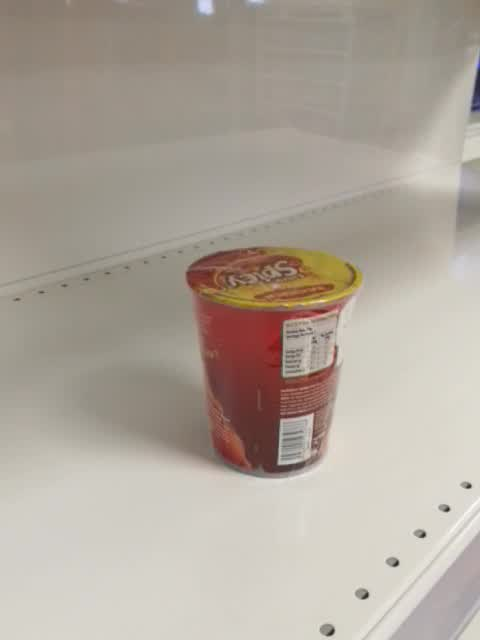maggi: (184, 245, 366, 479)
